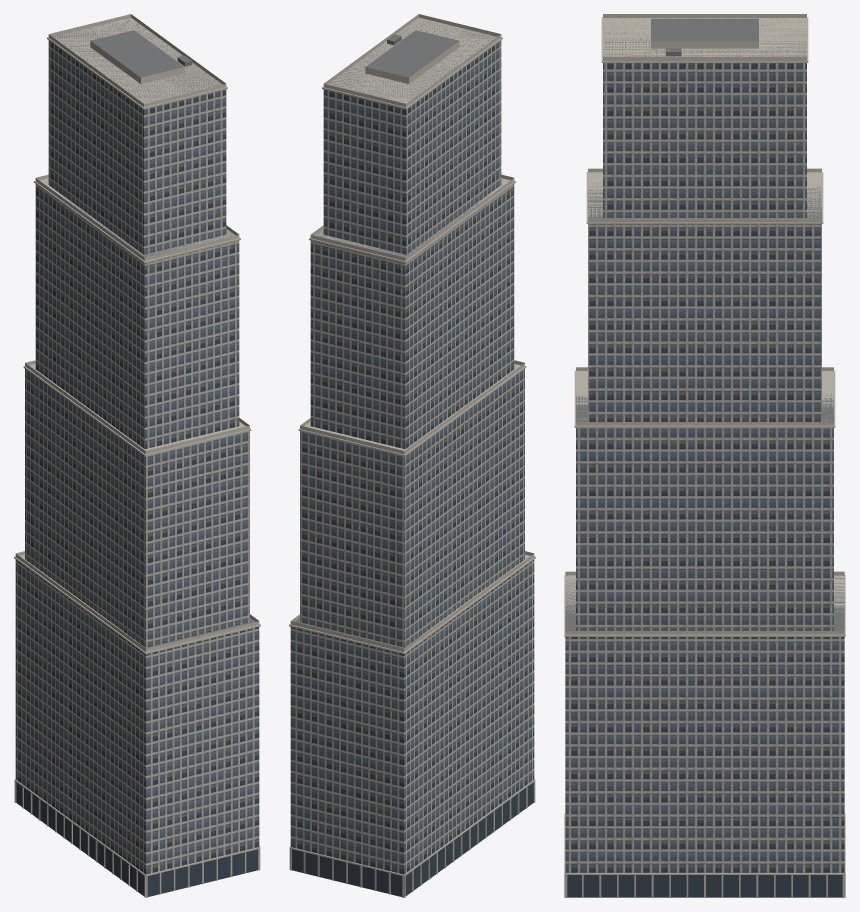
The model's file is hudson_yards_50.glb.
3 renders of one model, left to right at view 1: azimuth 30°, elevation 25°; view 2: azimuth 150°, elevation 25°; view 3: azimuth 270°, elevation 25°, orthographic. The views are drawn at different scales.
Parts seen in each view (by area): view 1: hudson_yards_50; view 2: hudson_yards_50; view 3: hudson_yards_50.
Part boxes in pixels (bbox=[...]): hudson_yards_50: bbox=[14, 14, 260, 897]; hudson_yards_50: bbox=[289, 14, 535, 897]; hudson_yards_50: bbox=[564, 14, 845, 897].
Bounding box in the file's own units: 47.6 × 308 × 93.82.
Materials: 2 (2 with a texture image).
